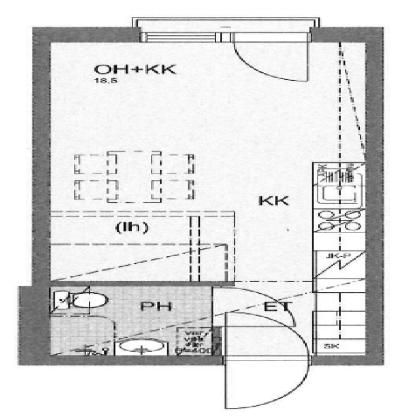door: (222, 310, 315, 413), (230, 32, 314, 84), (206, 286, 307, 329)
window: (142, 30, 224, 43)
zone: (46, 41, 360, 281), (214, 280, 366, 356), (53, 288, 212, 354)
